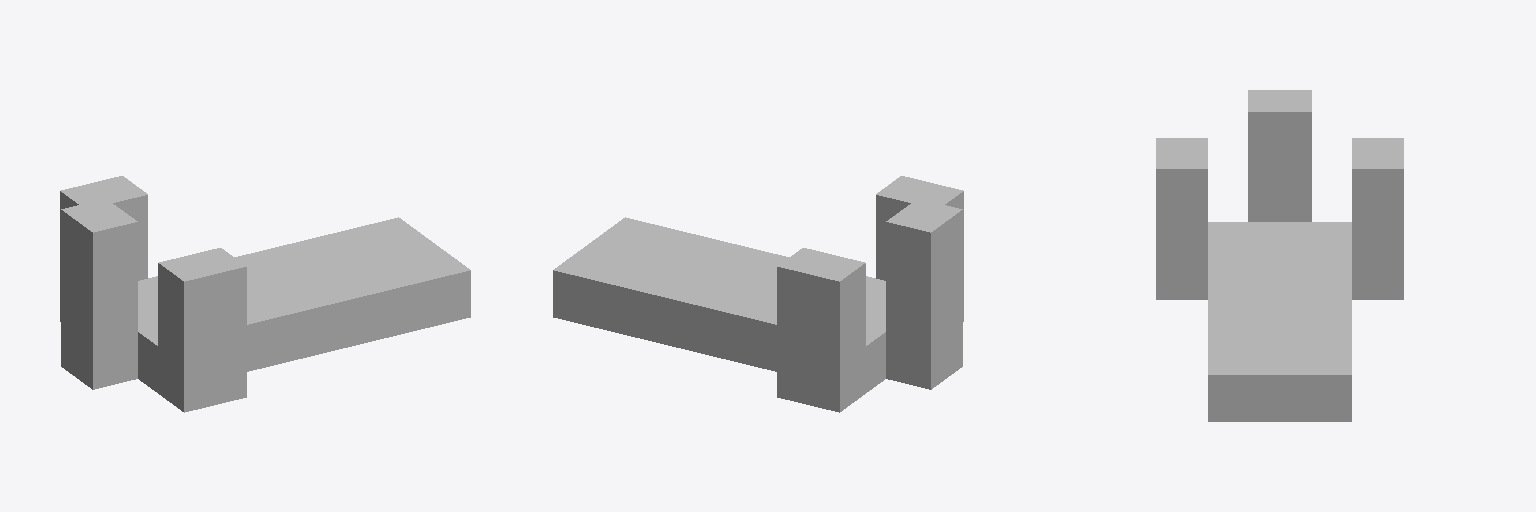
The model's file is Distractor_04.obj.
3 renders of one model, left to right at view 1: azimuth 30°, elevation 25°; view 2: azimuth 150°, elevation 25°; view 3: azimuth 270°, elevation 25°, orthographic.
Parts seen in each view (by area): view 1: mesh_1_Thick-2; view 2: mesh_1_Thick-2; view 3: mesh_1_Thick-2.
Part boxes in pixels (bbox=[...]): mesh_1_Thick-2: bbox=[60, 176, 470, 412]; mesh_1_Thick-2: bbox=[553, 176, 963, 412]; mesh_1_Thick-2: bbox=[1156, 90, 1403, 421].
Bounding box in the file's own units: 0.143 × 0.06 × 0.086.